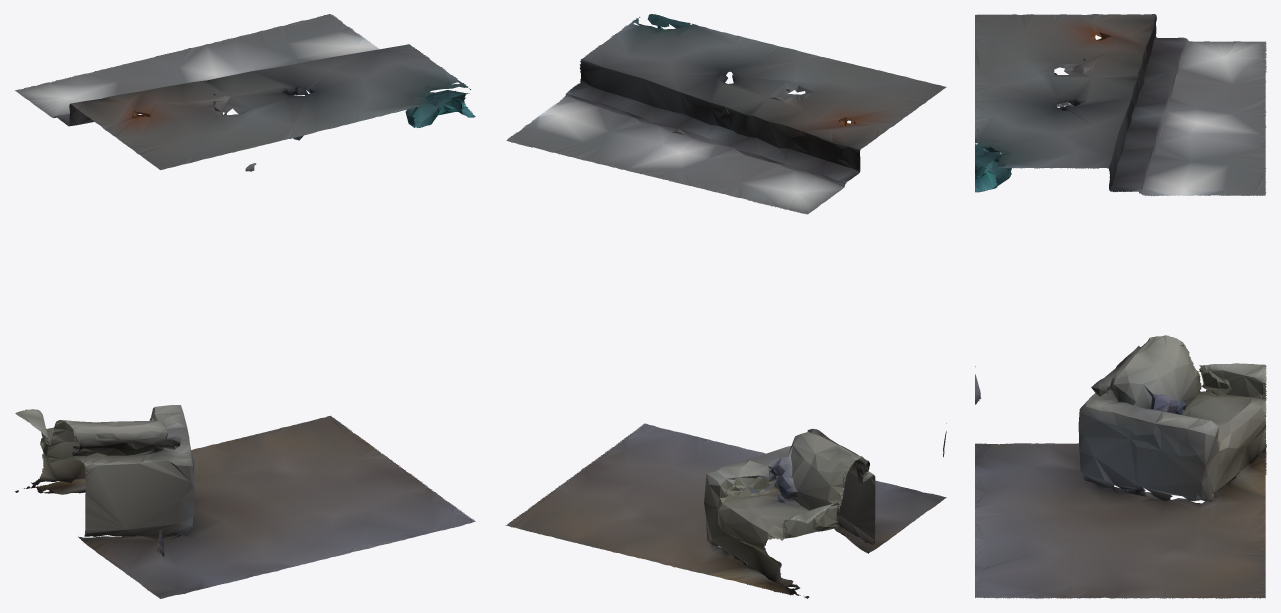
Rendered from coarse.glb.
The picture shows the model from 3 angles, left to right: view 1: azimuth 30°, elevation 25°; view 2: azimuth 150°, elevation 25°; view 3: azimuth 270°, elevation 25°; orthographic projection. The views are drawn at different scales.
Size of the model in its own units: 2.38 by 3.17 by 1.9.
